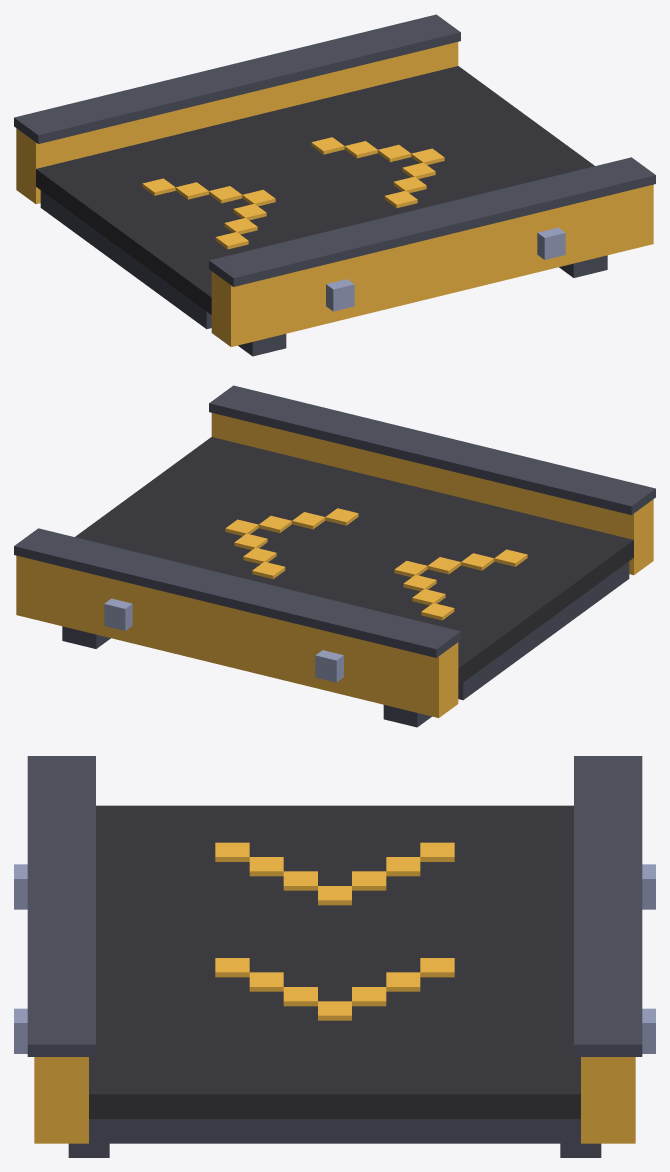
Rendered from conveyor.obj.
The picture shows the model from 3 angles, top to bottom: view 1: azimuth 30°, elevation 25°; view 2: azimuth 150°, elevation 25°; view 3: azimuth 270°, elevation 25°; orthographic projection. The views are drawn at different scales.
Parts seen in each view (by area): view 1: conveyor; view 2: conveyor; view 3: conveyor.
Boxes of the visible parts, x1=… form: conveyor: x1=14, y1=14, x2=655, y2=356; conveyor: x1=14, y1=385, x2=655, y2=727; conveyor: x1=14, y1=756, x2=655, y2=1157.
Size of the model in its own units: 1 by 0.22 by 0.94.
1 material, 1 textured.
